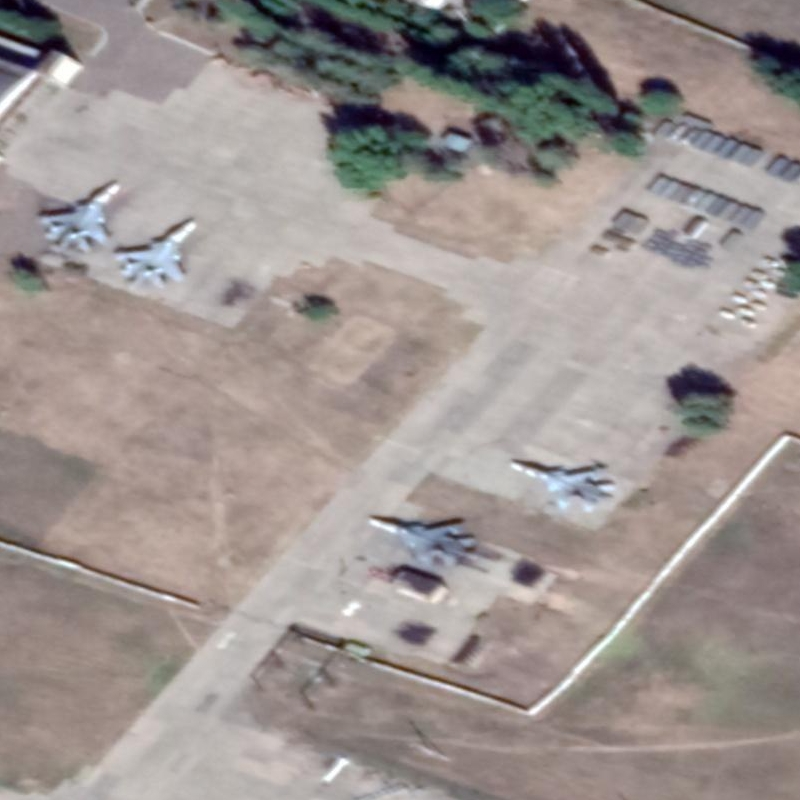A19: (37, 178, 122, 257), (110, 217, 199, 292), (365, 515, 480, 573), (508, 459, 619, 515)
